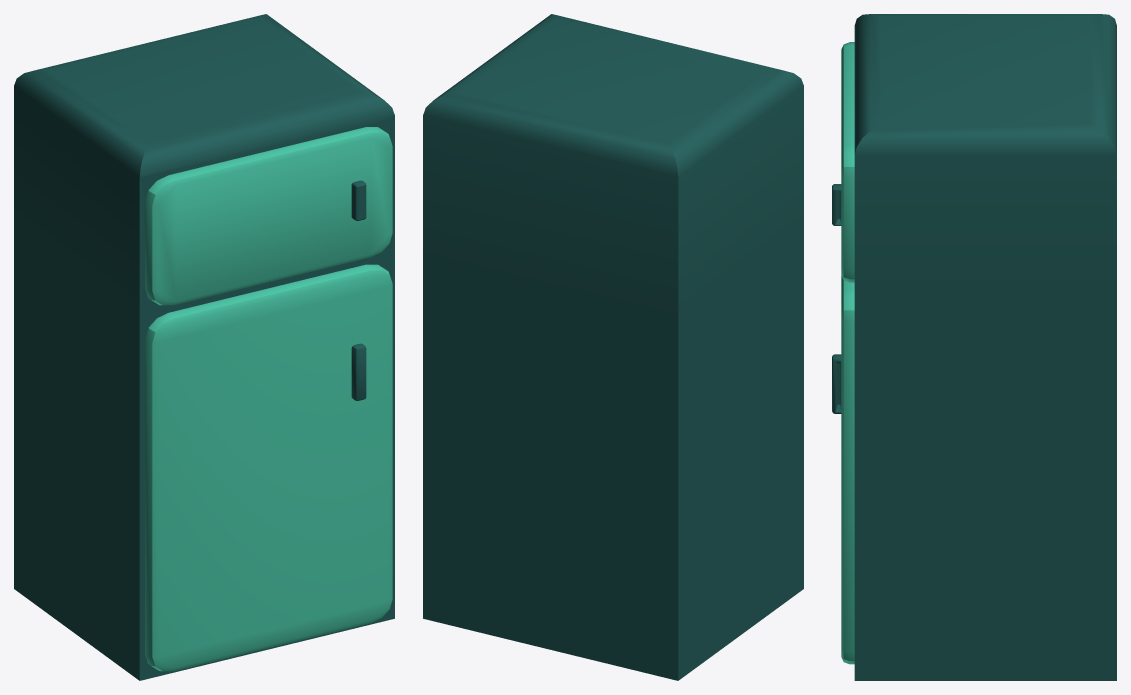
File: Nevera.fbx
3 renders of one model, left to right at view 1: azimuth 30°, elevation 25°; view 2: azimuth 150°, elevation 25°; view 3: azimuth 270°, elevation 25°, orthographic. The views are drawn at different scales.
Parts seen in each view (by area): view 1: Nevera; view 2: Nevera; view 3: Nevera.
Boxes of the visible parts, <box> form: Nevera: <box>14,14,394,680</box>; Nevera: <box>423,14,803,680</box>; Nevera: <box>832,14,1116,680</box>.
Size of the model in its own units: 78.92 by 154 by 73.15.
